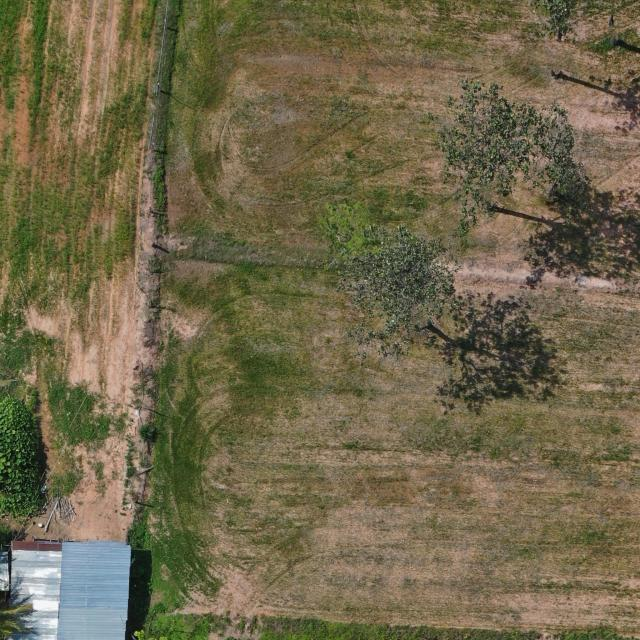tree: (424, 75, 579, 228), (334, 222, 466, 369)
